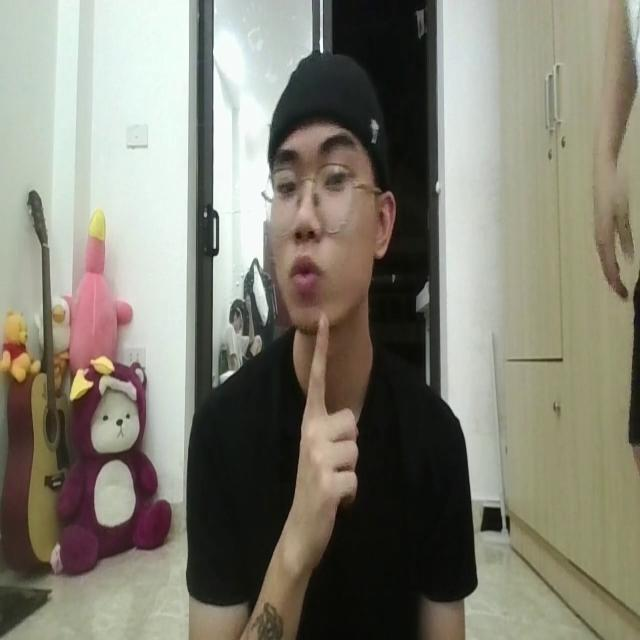student: (183, 43, 475, 640)
